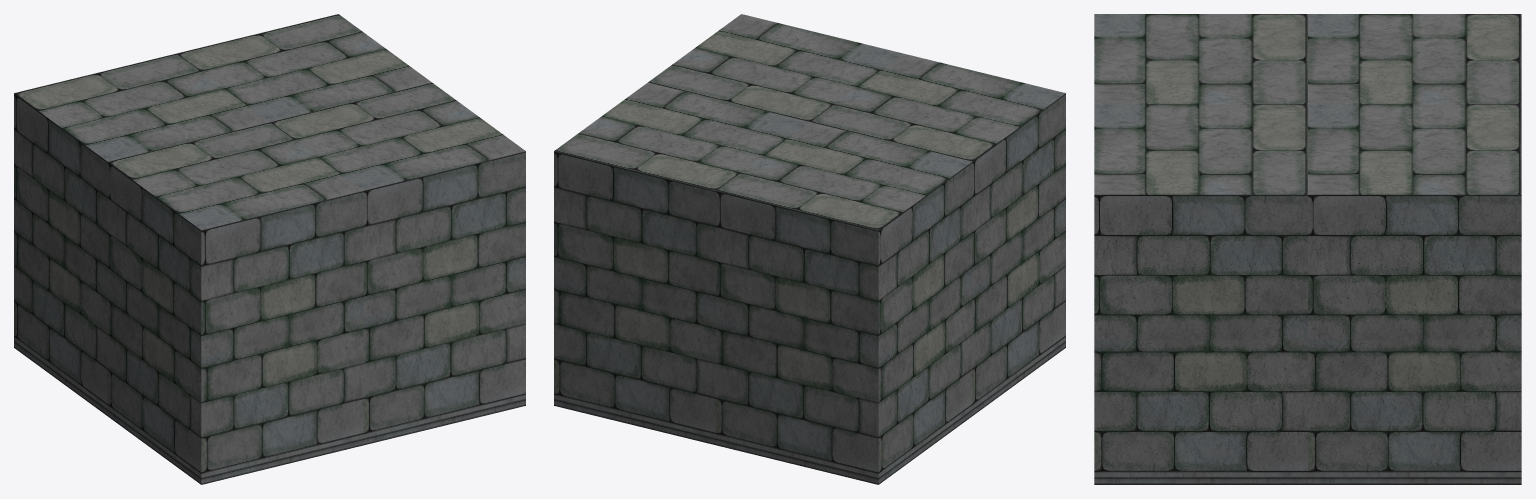
File: block-large-01.glb
3 views of the same model, side by side, from view 1: azimuth 30°, elevation 25°; view 2: azimuth 150°, elevation 25°; view 3: azimuth 270°, elevation 25° (orthographic). The views are drawn at different scales.
Parts seen in each view (by area): view 1: block_large_01; view 2: block_large_01; view 3: block_large_01.
Part boxes in pixels (left/top/right/bottom): block_large_01: left=14, top=14, right=525, bottom=484; block_large_01: left=554, top=14, right=1065, bottom=484; block_large_01: left=1094, top=14, right=1521, bottom=484.
Bounding box in the file's own units: 4 × 3 × 4.
1 material, 1 textured.
